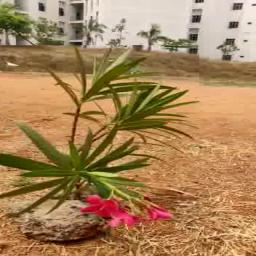OLEANDER: (0, 46, 200, 220)
